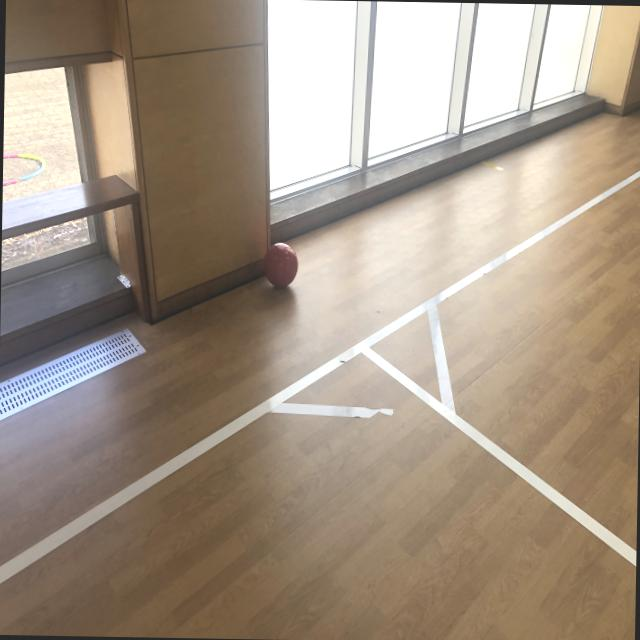red_ball: (262, 242, 299, 288)
